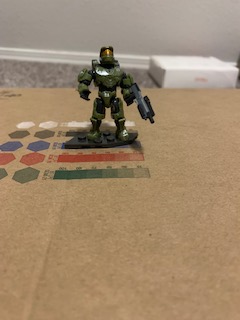chief: (74, 44, 135, 146)
rifle: (127, 82, 157, 129)
spartan: (72, 42, 133, 144)
